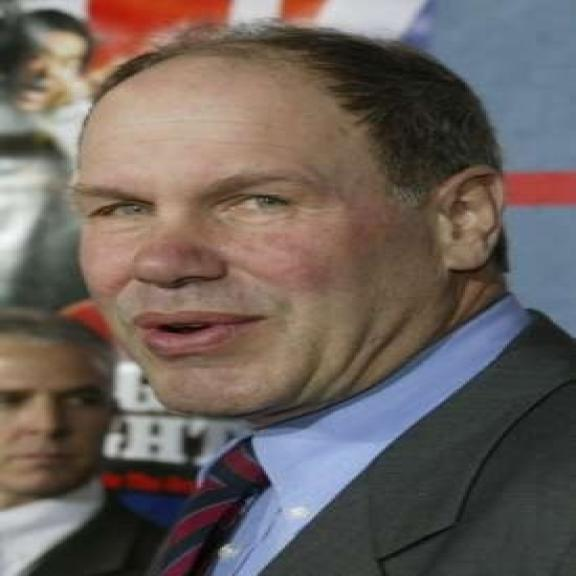face: (66, 75, 513, 425), (1, 324, 114, 505)
